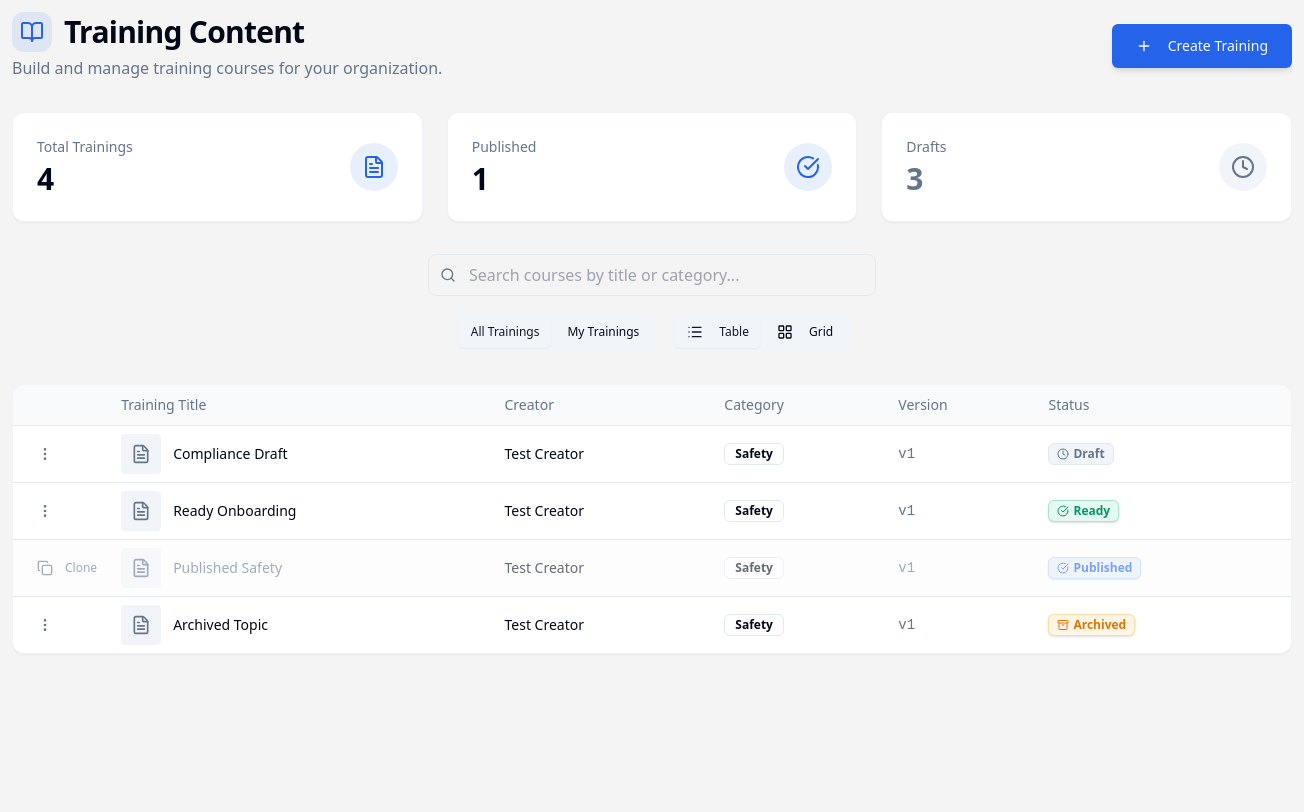
Test case: ManagerTrainings (Course Studio) › Delete action only appears for draft trainings owned by the user
Check: the text "Compliance Draft" is shown, box [173,444,288,464]
Note: Draft row → opens dropdown → Delete should appear
Click the button without text next to "Compliance Draft". click: (45, 454)
box: [29,438,61,470]
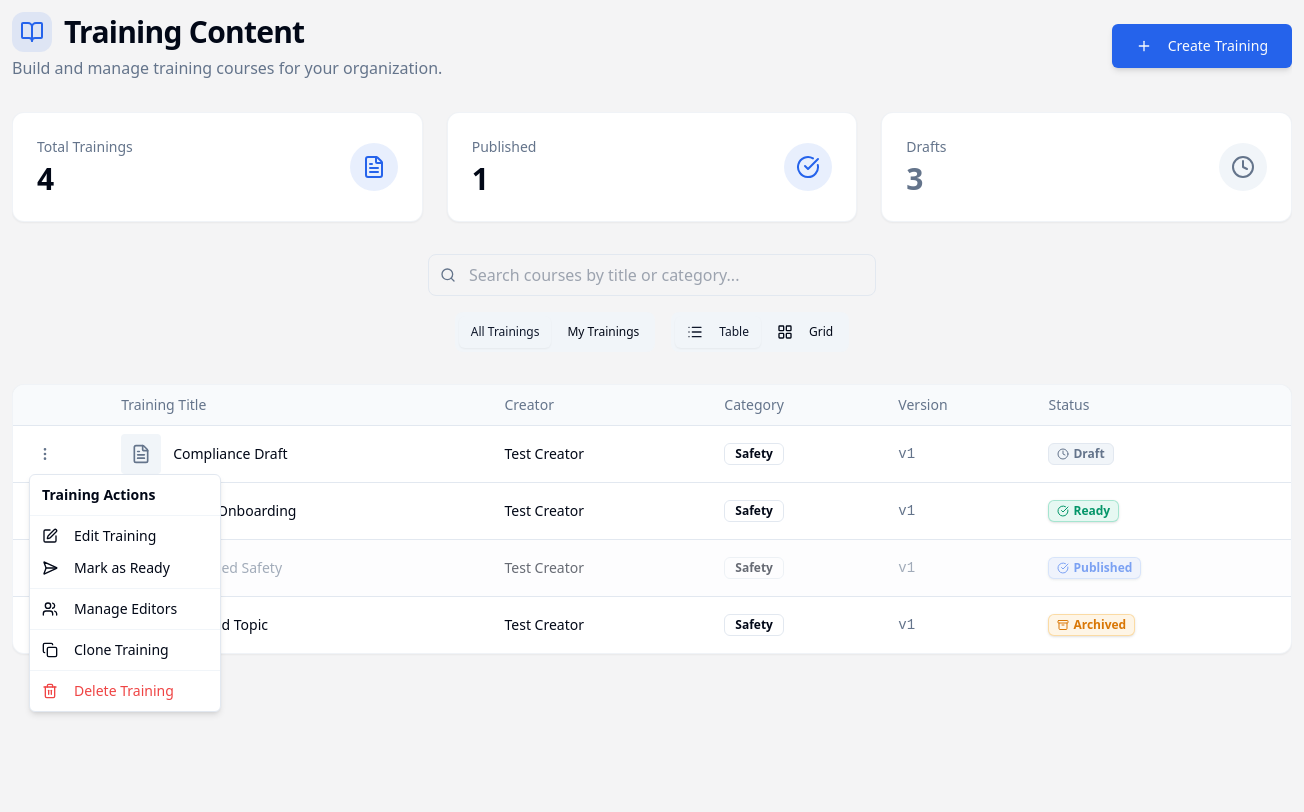
Check: the menu item "Delete Training" is shown, box [42,681,174,700]
